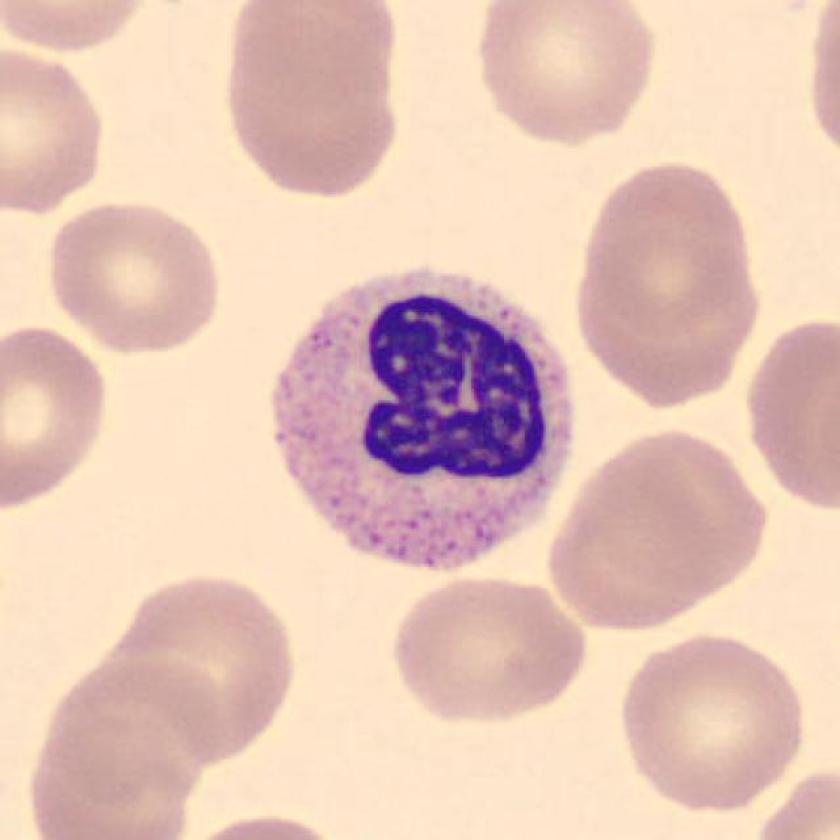neutrophil: (273, 272, 573, 571)
